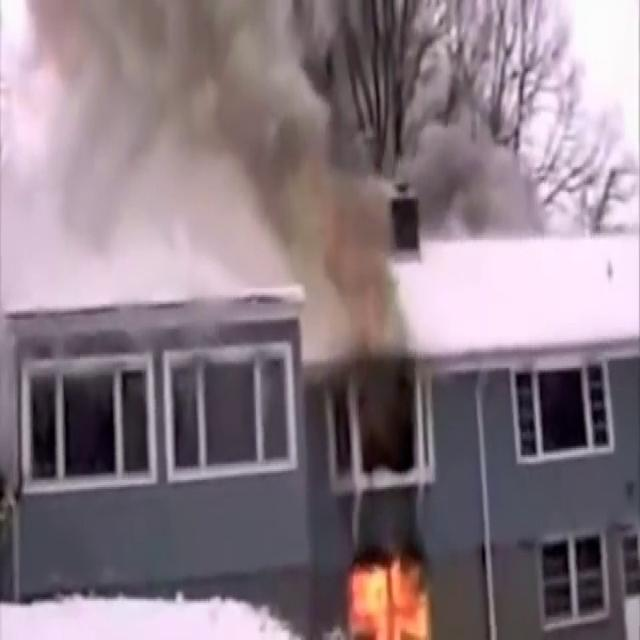Fire: (339, 540, 442, 638)
Smoke: (1, 0, 594, 297), (0, 1, 373, 292)
